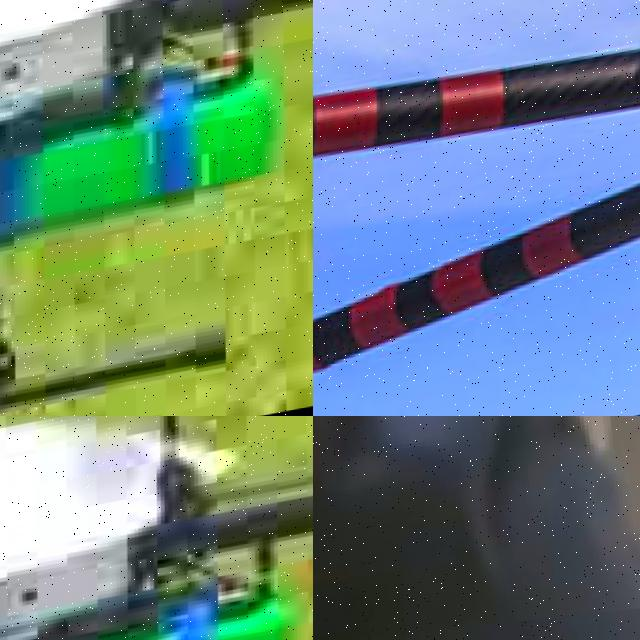0: (0, 0, 313, 416), (0, 416, 313, 640)
drone: (313, 0, 640, 416)
